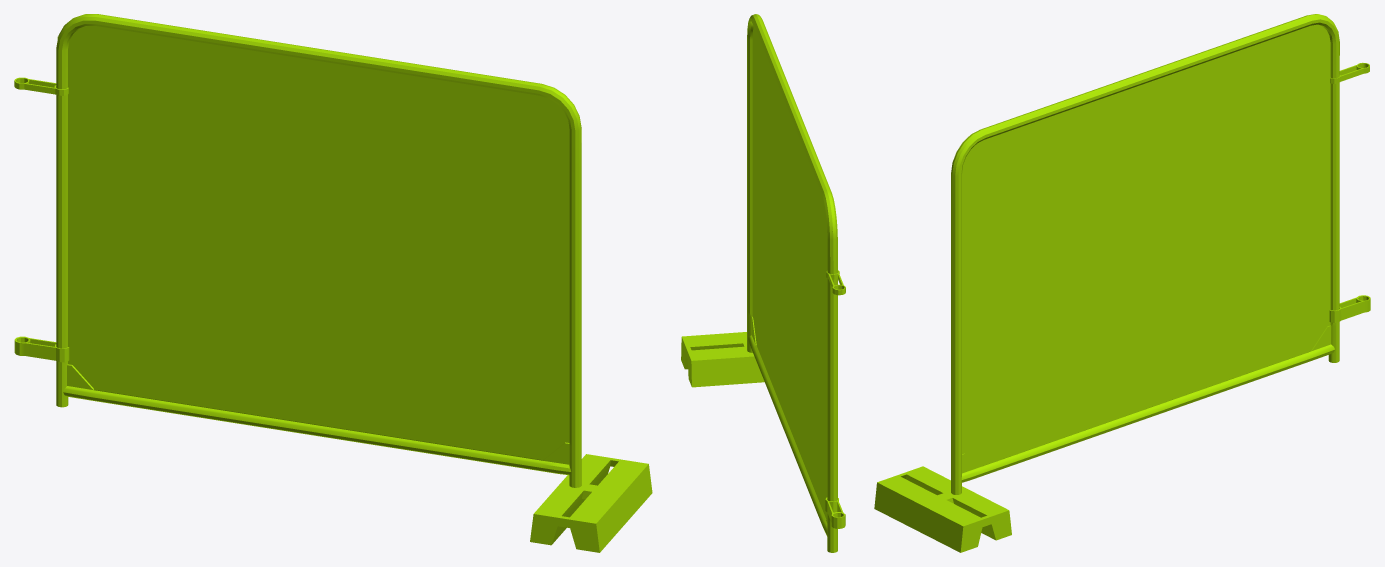
File: fence with block.fbx
The picture shows the model from 3 angles, left to right: view 1: azimuth 30°, elevation 25°; view 2: azimuth 150°, elevation 25°; view 3: azimuth 270°, elevation 25°; orthographic projection. The views are drawn at different scales.
Parts seen in each view (by area): view 1: polySurface151; view 2: polySurface151; view 3: polySurface151.
Part boxes in pixels (x1,y1,x2,y2): polySurface151: [14, 14, 652, 552]; polySurface151: [681, 14, 845, 552]; polySurface151: [874, 14, 1370, 552].
Size of the model in its own units: 3.15 by 3.1 by 3.67.
